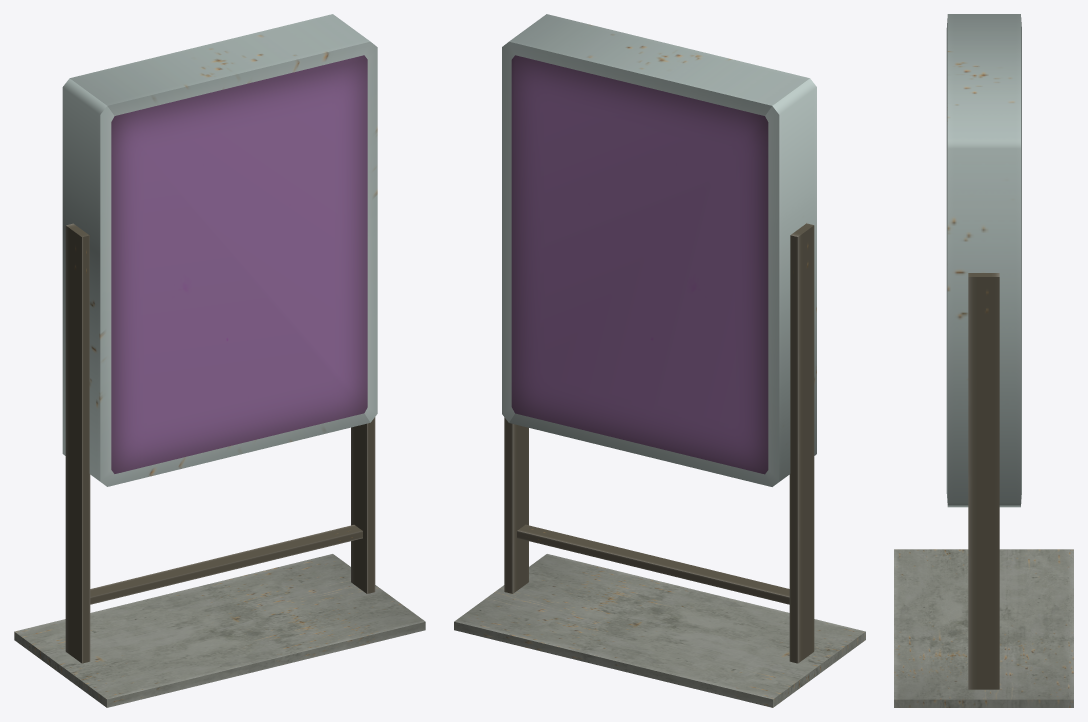
Rendered from menustand01b.fbx.
The picture shows the model from 3 angles, left to right: view 1: azimuth 30°, elevation 25°; view 2: azimuth 150°, elevation 25°; view 3: azimuth 270°, elevation 25°; orthographic projection. The views are drawn at different scales.
Visible parts, largest first — view 1: menustand01b; view 2: menustand01b; view 3: menustand01b.
Boxes of the visible parts, bbox=[...] form: menustand01b: bbox=[14, 14, 425, 707]; menustand01b: bbox=[454, 14, 865, 707]; menustand01b: bbox=[894, 14, 1073, 707].
Bounding box in the file's own units: 62.43 × 108 × 31.49.
